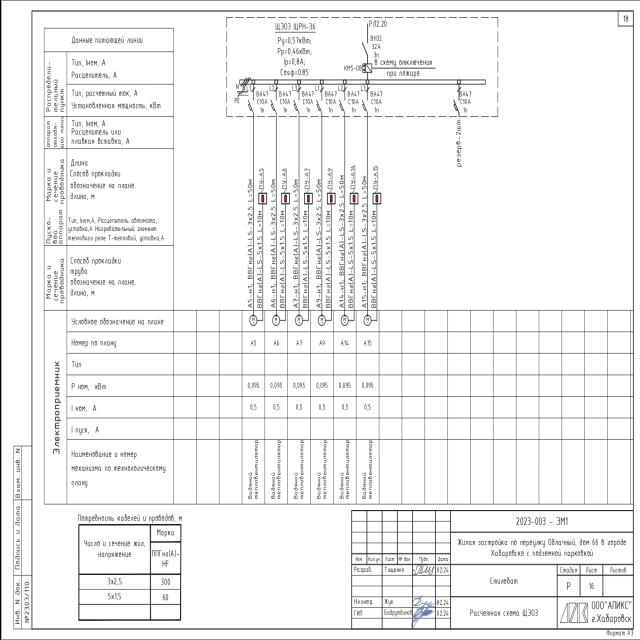-: (274, 22, 316, 32), (322, 89, 337, 114), (253, 89, 267, 114), (346, 90, 360, 115), (458, 90, 472, 115), (277, 90, 291, 115), (300, 90, 314, 115), (369, 89, 383, 114), (368, 34, 382, 58), (343, 64, 361, 72)
KM: (361, 62, 372, 74)
QF: (314, 96, 322, 115), (292, 95, 300, 113), (246, 95, 253, 114), (452, 95, 459, 114), (361, 95, 368, 114), (270, 95, 276, 114), (338, 95, 344, 114)
QS: (360, 38, 368, 56)
